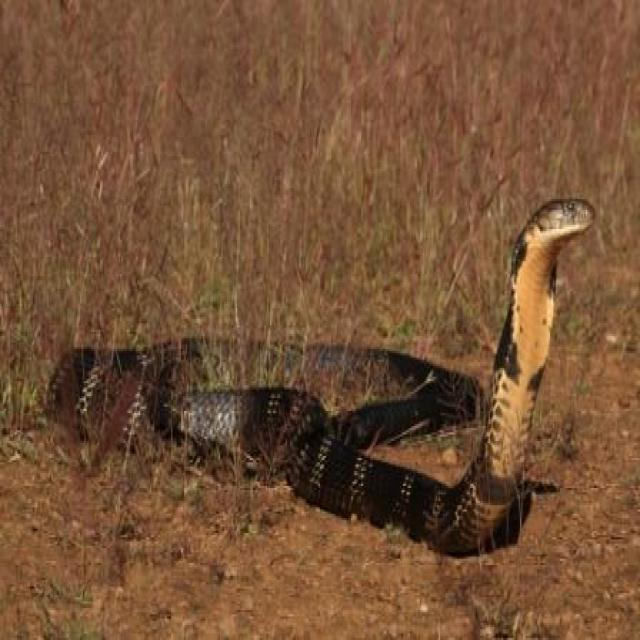Snake: (45, 194, 596, 556)
